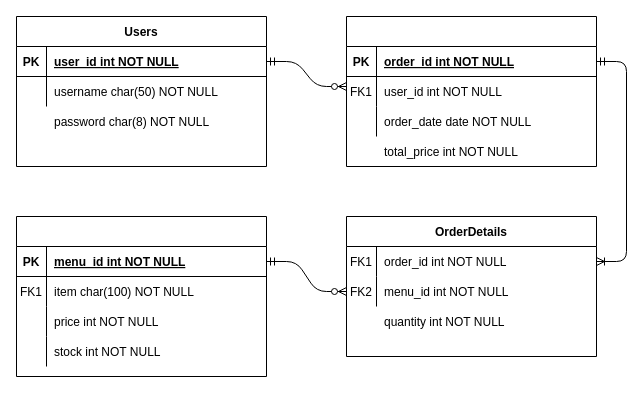
The diagram is 643 pixels wide and 393 high, and some of its shapes have lost their labels. The box of each missing label's shape, as (x1, y1, x2, y2) in pixels:
Menus: (16, 216, 266, 376)
Orders: (346, 16, 596, 166)
